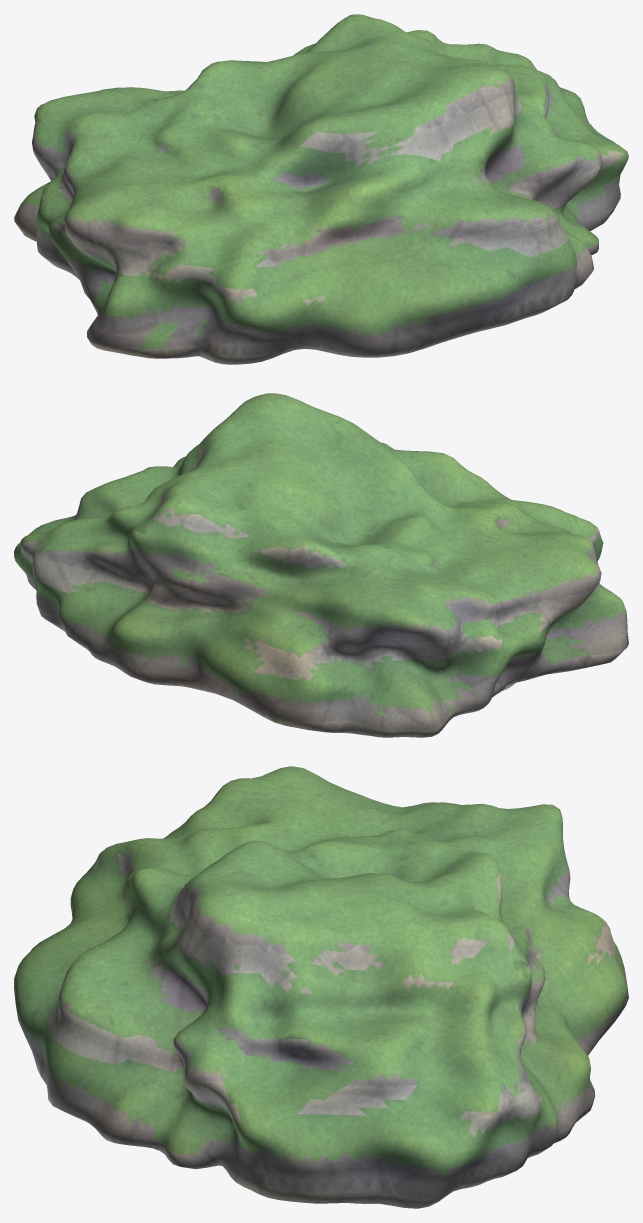
The model's file is WM_RockSea_B.fbx.
3 renders of one model, top to bottom at view 1: azimuth 30°, elevation 25°; view 2: azimuth 150°, elevation 25°; view 3: azimuth 270°, elevation 25°, orthographic. The views are drawn at different scales.
Visible parts, largest first — view 1: WM_RockSea_B_LOD0; view 2: WM_RockSea_B_LOD0; view 3: WM_RockSea_B_LOD0.
Part boxes in pixels (box(x1,y1,x2,y2)): WM_RockSea_B_LOD0: box(14, 14, 628, 364); WM_RockSea_B_LOD0: box(14, 393, 628, 737); WM_RockSea_B_LOD0: box(14, 766, 628, 1208).
Size of what is drawn, in the model's own units: 3.78 by 1.29 by 3.04.
